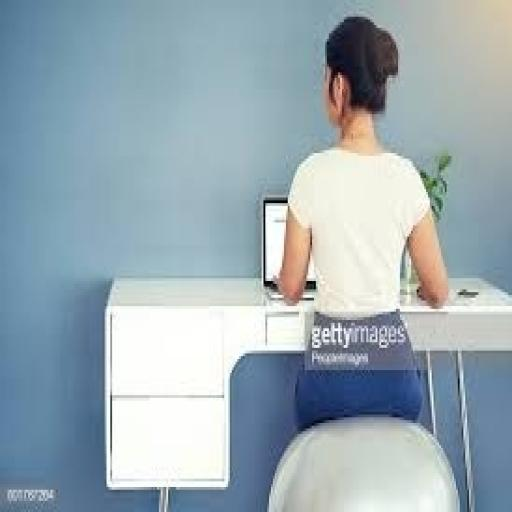sitting: (271, 11, 450, 429)
